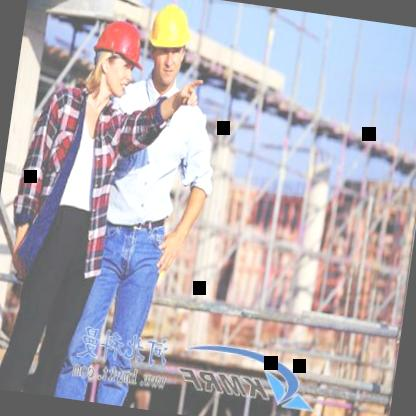helmet: (82, 11, 153, 103), (137, 0, 199, 94)
